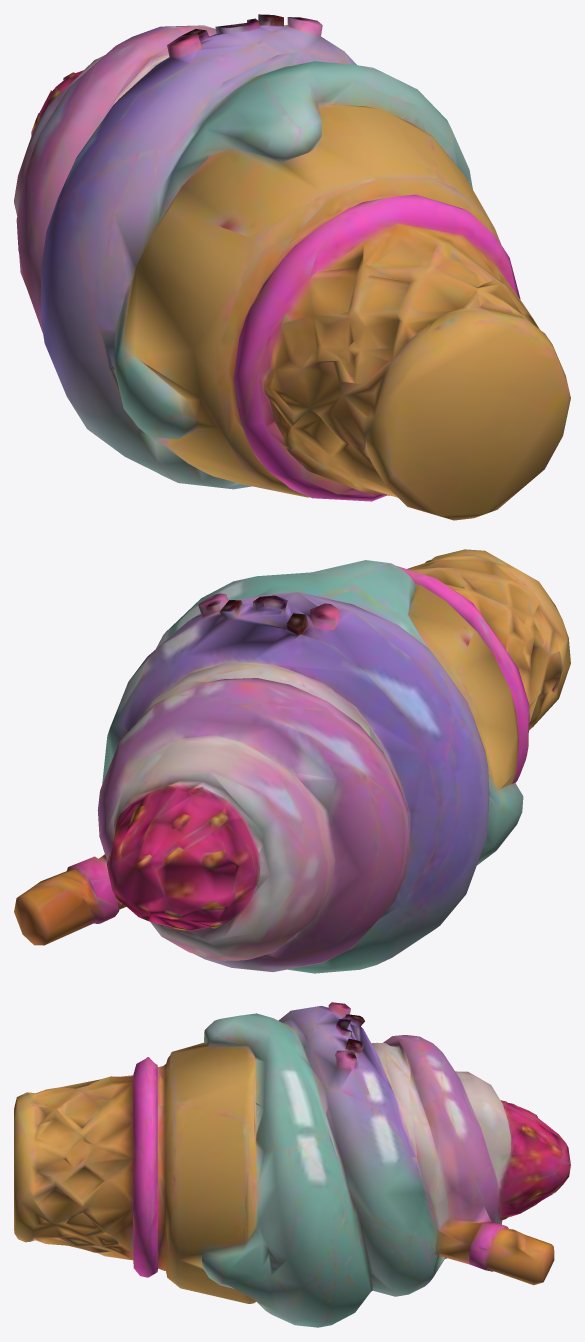
3 views of the same model, one above another, from view 1: azimuth 30°, elevation 25°; view 2: azimuth 150°, elevation 25°; view 3: azimuth 270°, elevation 25° (orthographic). The views are drawn at different scales.
Visible parts, largest first — view 1: material; view 2: material; view 3: material.
Part boxes in pixels (x1=…): material: x1=14, y1=14, x2=570, y2=520; material: x1=14, y1=549, x2=570, y2=973; material: x1=14, y1=1002, x2=570, y2=1327.
Bounding box in the file's own units: 0.572 × 0.5816 × 1.
1 material, 1 textured.
